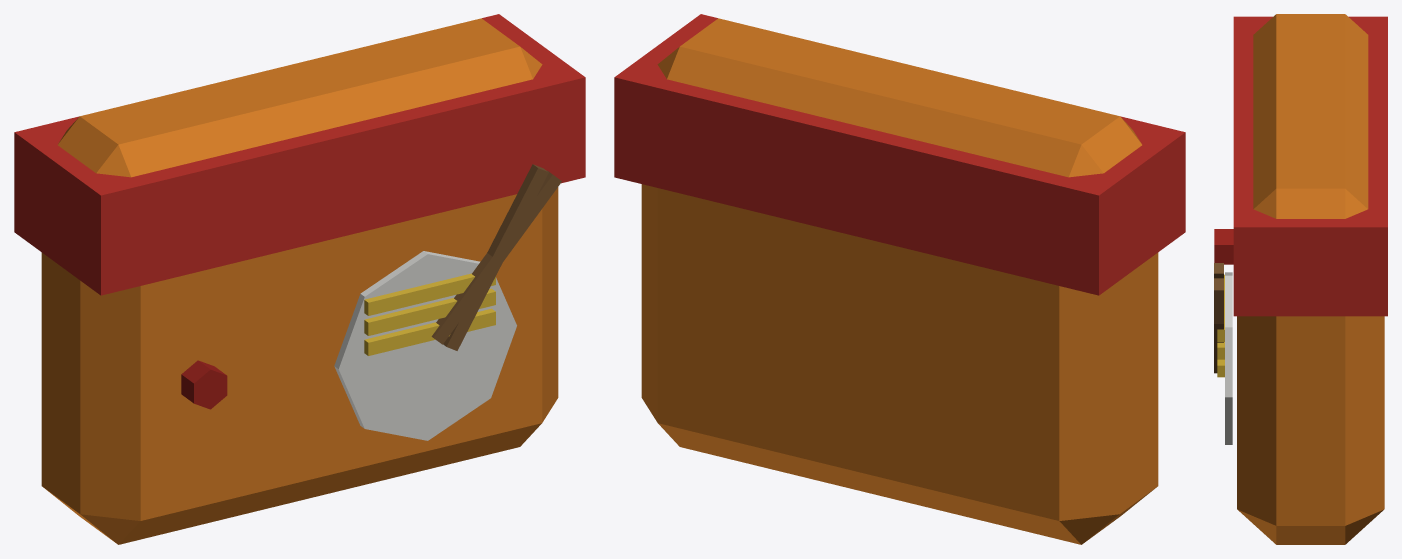
Rendered from hh_goi_mi.glb.
3 renders of one model, left to right at view 1: azimuth 30°, elevation 25°; view 2: azimuth 150°, elevation 25°; view 3: azimuth 270°, elevation 25°, orthographic. The views are drawn at different scales.
Parts seen in each view (by area): view 1: hh_goi_mi; view 2: hh_goi_mi; view 3: hh_goi_mi.
Boxes of the visible parts, bbox=[...] form: hh_goi_mi: bbox=[14, 14, 585, 544]; hh_goi_mi: bbox=[614, 14, 1185, 544]; hh_goi_mi: bbox=[1214, 14, 1387, 544].
Bounding box in the file's own units: 0.152 × 0.12 × 0.053.
